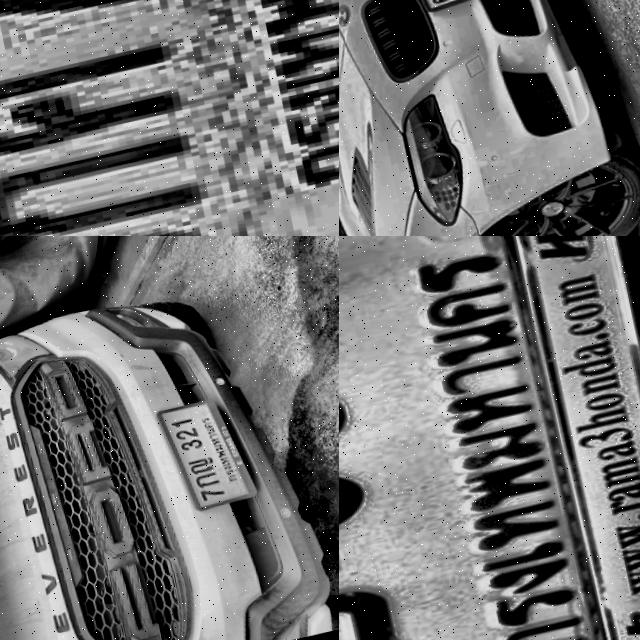license-plate: (339, 236, 640, 640), (0, 0, 339, 236), (152, 391, 260, 520), (390, 0, 488, 25)
